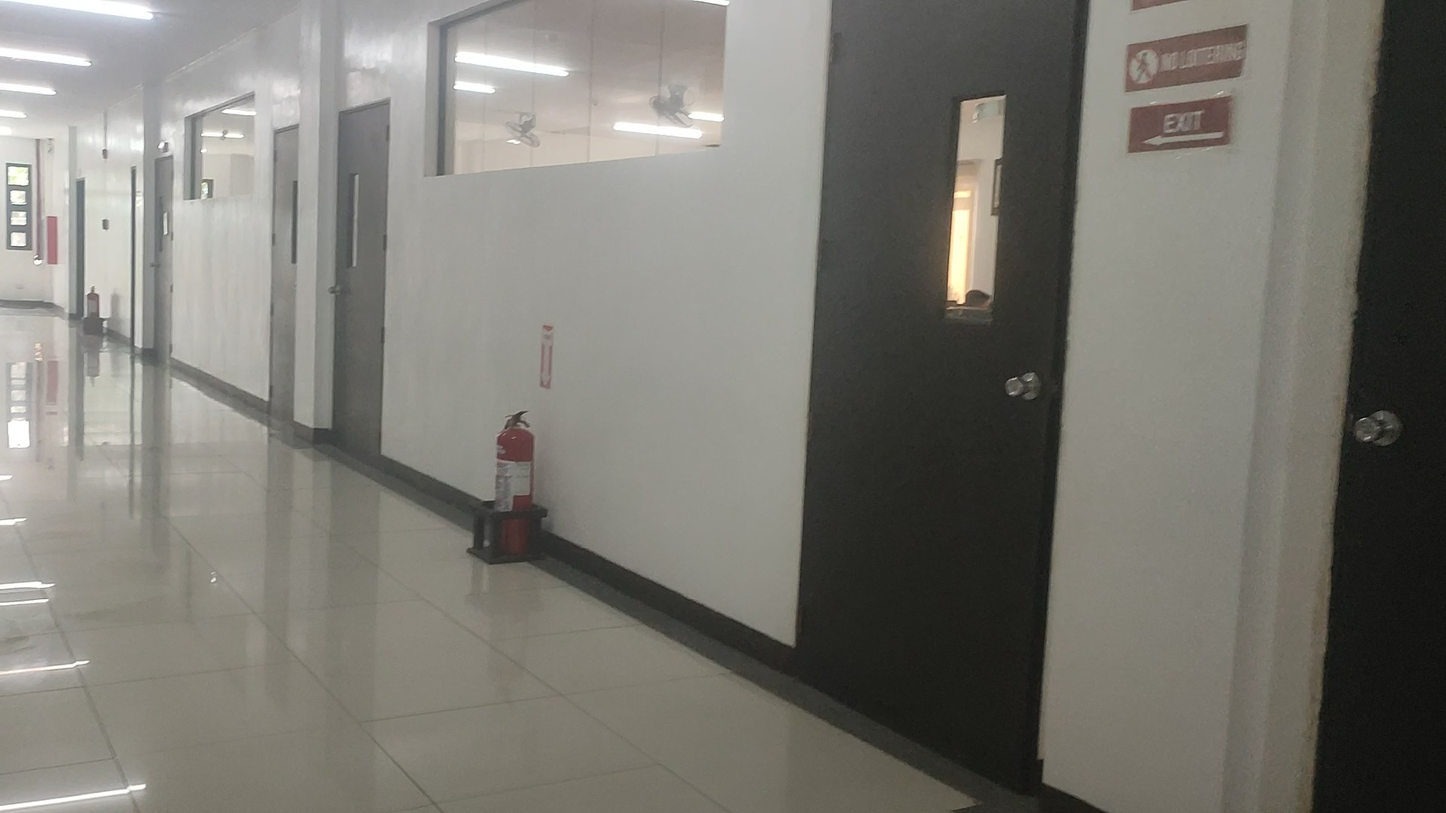door: (790, 0, 1087, 795), (1313, 0, 1446, 813), (319, 99, 390, 452)
